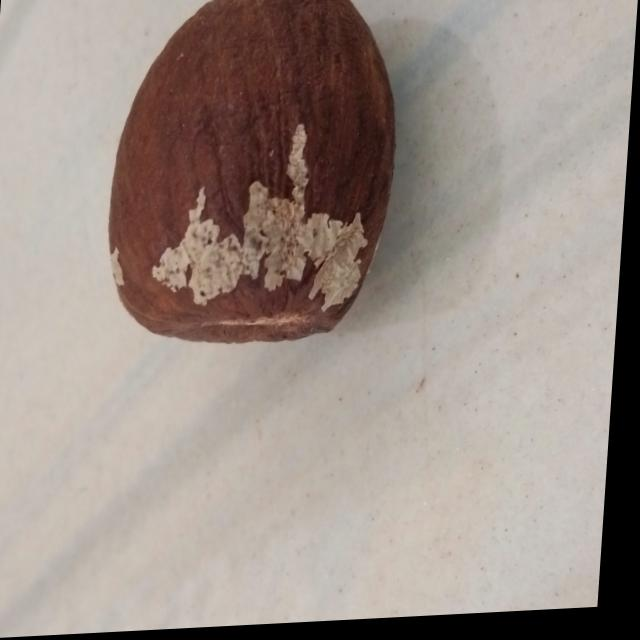karigot: (96, 0, 392, 385)
